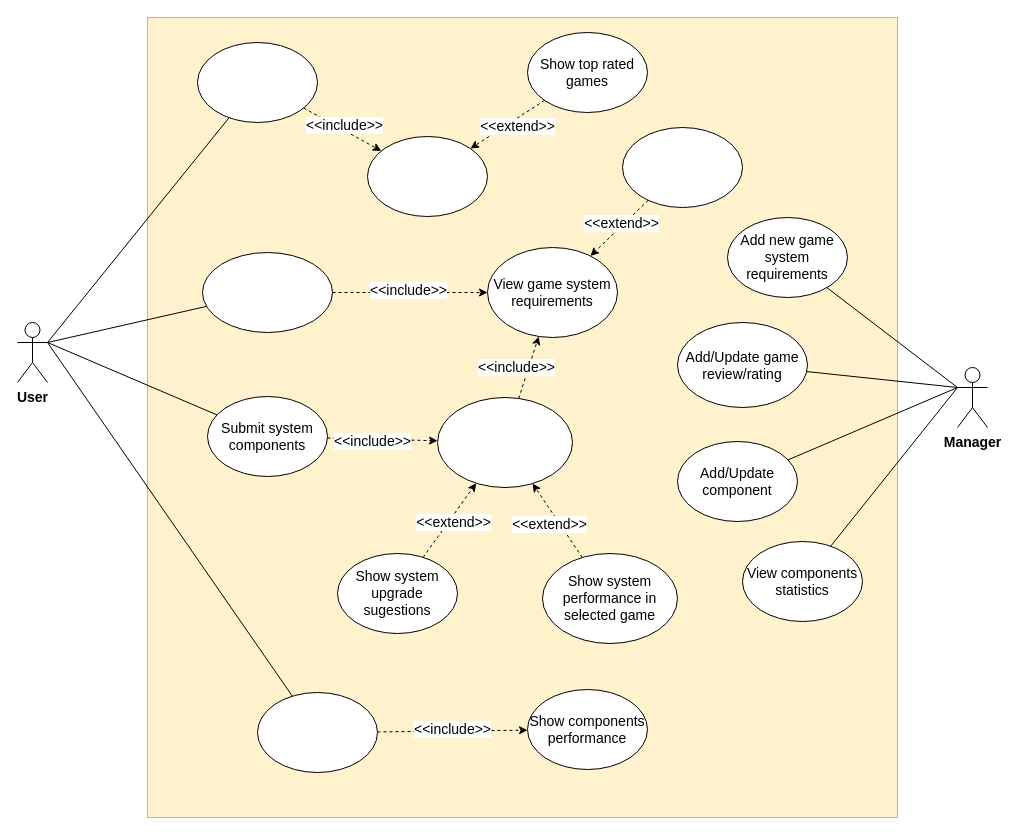
Image size: 1019x835. Some labels were removed from this diagram. Here are the shapes that lost their labels. From the top down, the box of each, then its label:
(196, 42, 318, 122): Browser most popular games
(366, 136, 488, 216): View top rated games
(622, 126, 742, 208): Show game system requirements
(202, 252, 332, 332): Find game system requirements
(436, 396, 572, 488): View system performance in games
(256, 692, 378, 772): Find/Compare components
